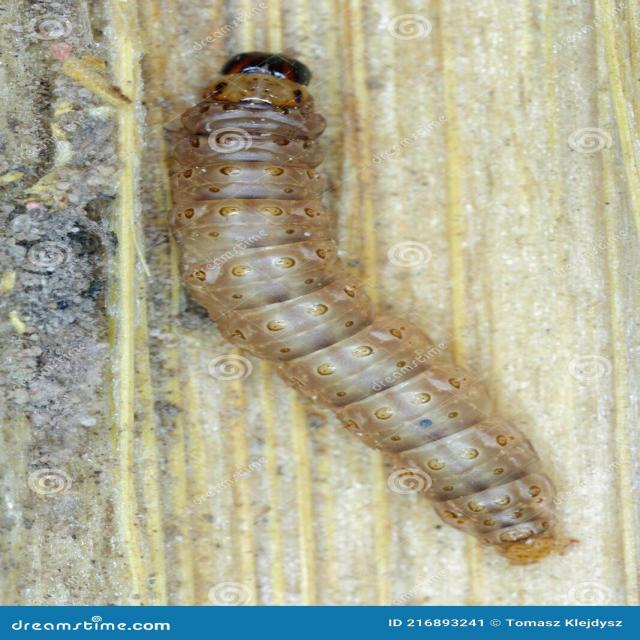cornborer-Larva-: (158, 34, 578, 563)
